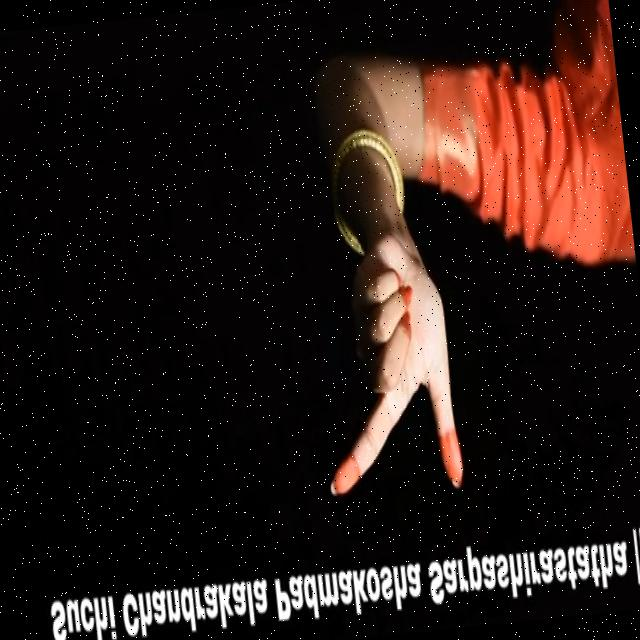Chandrakala: (287, 214, 488, 536)
bangle: (317, 113, 423, 220)
text: (35, 511, 640, 640)
